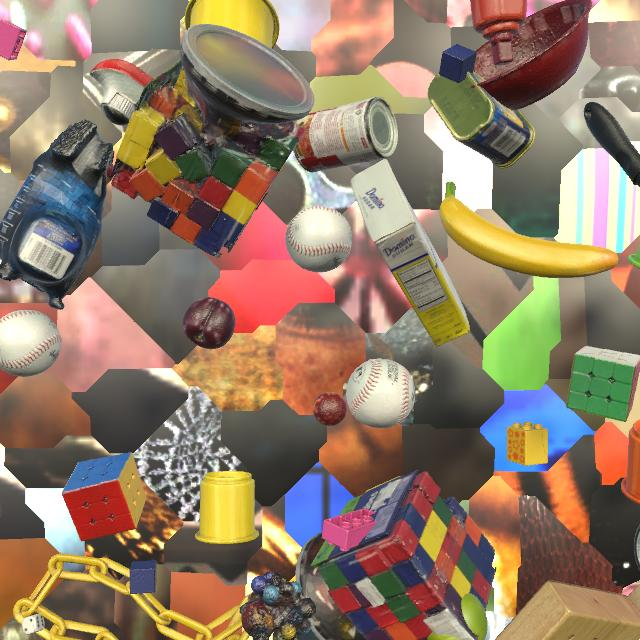ycb_004_sugar_box: (351, 159, 470, 347)
ycb_005_tomato_soup_can: (293, 97, 398, 172)
ycb_007_tuna_fish_can: (634, 524, 640, 570)
ycb_010_potted_meat_can: (427, 71, 536, 168)
ycb_011_banana: (439, 181, 618, 278)
ycb_016_pear: (427, 593, 488, 640)
ycb_018_plum: (182, 297, 236, 349)
